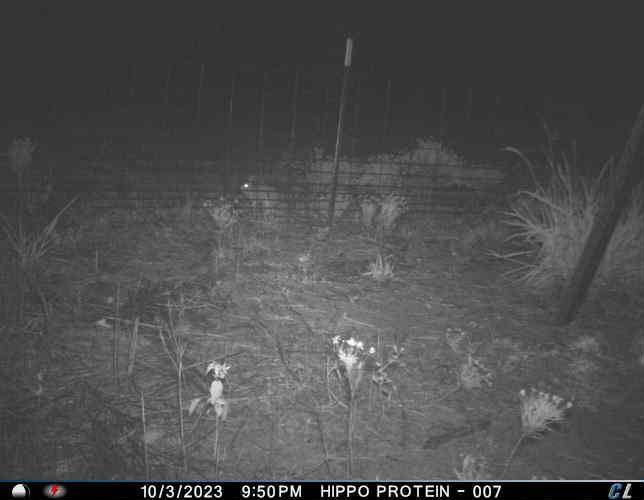Rabbit: (239, 174, 284, 215)
